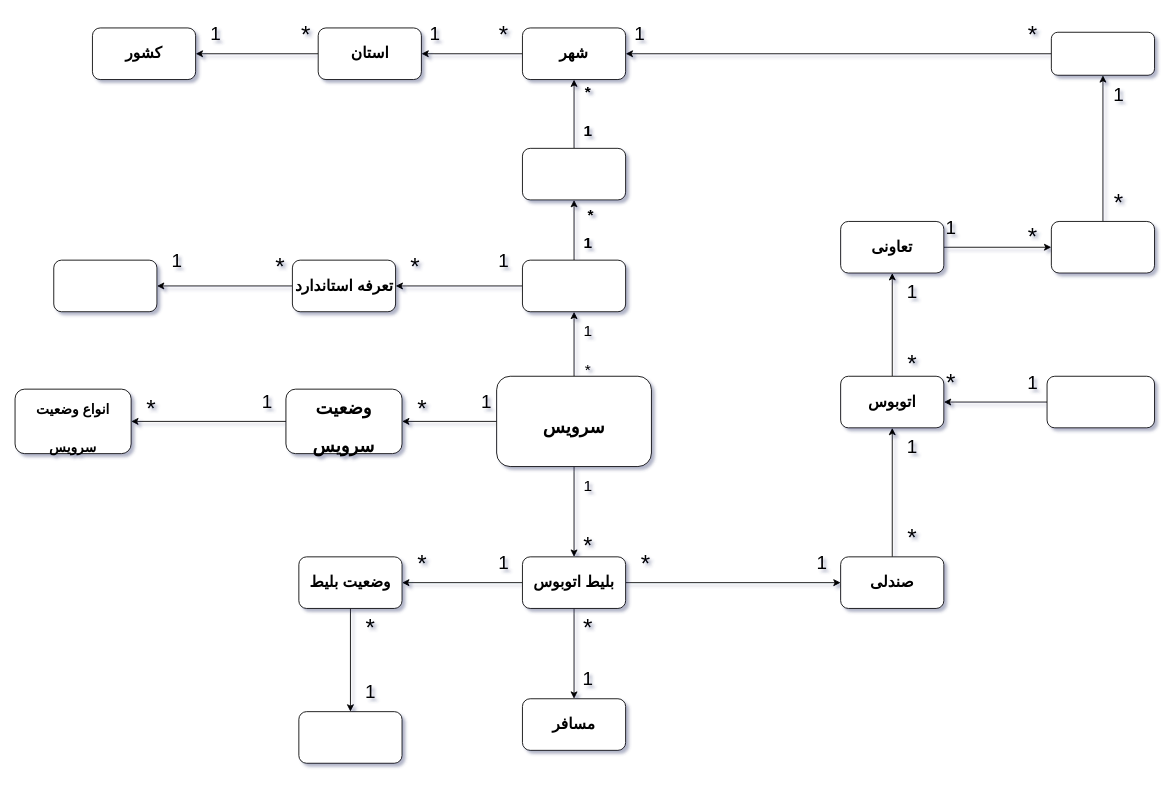
Some shapes in this 1175 by 786 pixel diagram are drawn without their labels. The shapes that lost their labels are listed below. From the top down, each one's box as (x1, y1, x2, y2) in pixels, then its label:
(1050, 31, 1155, 75): ترمینال
(522, 147, 626, 200): شهر میانی
(1050, 221, 1155, 273): شعبه تعاونی
(53, 259, 157, 312): نوع
(522, 259, 626, 312): مسیر استاندارد
(1046, 375, 1155, 428): راننده
(298, 711, 402, 763): انواع وضعیت بلیط
